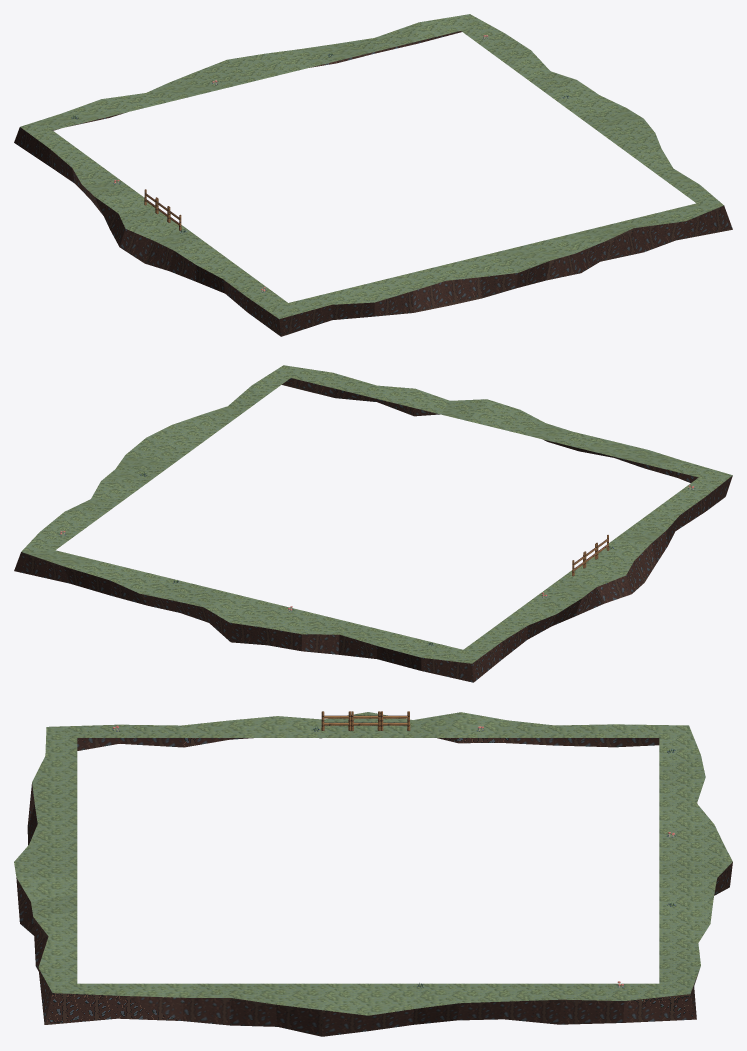
Rendered from entorno_18.glb.
3 renders of one model, top to bottom at view 1: azimuth 30°, elevation 25°; view 2: azimuth 150°, elevation 25°; view 3: azimuth 270°, elevation 25°, orthographic. The views are drawn at different scales.
Visible parts, largest first — view 1: bosque_entorno_18; view 2: bosque_entorno_18; view 3: bosque_entorno_18.
Part boxes in pixels (x1,y1,x2,y2): bosque_entorno_18: (14, 14, 732, 336); bosque_entorno_18: (14, 365, 732, 682); bosque_entorno_18: (14, 711, 732, 1036).
Size of the model in its own units: 22.6 by 1.69 by 22.49.
Materials: 7 (5 with a texture image).
